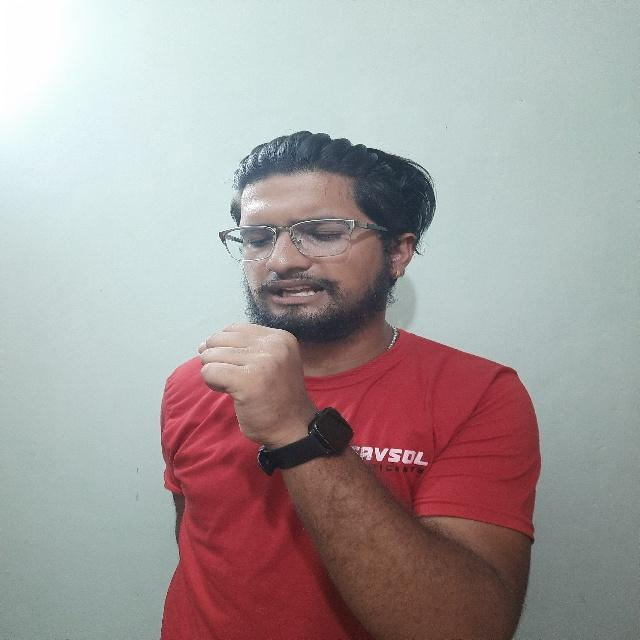Fist Mouth: (195, 132, 424, 461)
